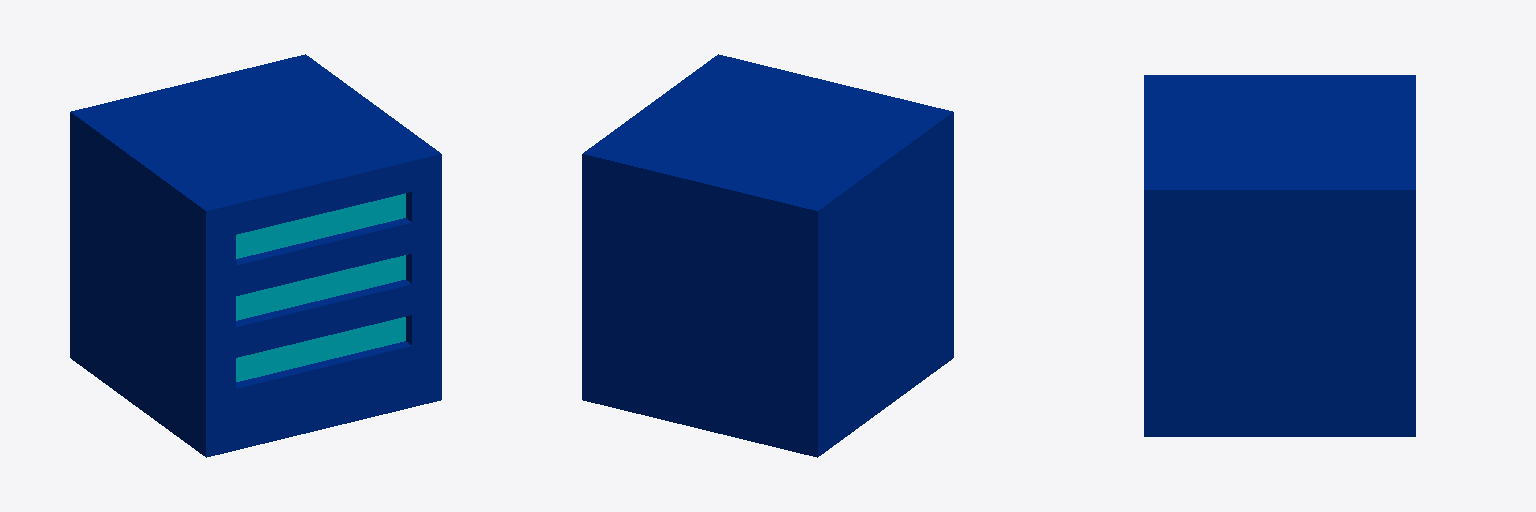
3 views of the same model, side by side, from view 1: azimuth 30°, elevation 25°; view 2: azimuth 150°, elevation 25°; view 3: azimuth 270°, elevation 25° (orthographic).
Parts seen in each view (by area): view 1: Cube_Material, Cube.001_材质; view 2: Cube_Material; view 3: Cube_Material.
Boxes of the visible parts, box(x1,y1,x2,y2) form: Cube_Material: box(70, 54, 441, 457); Cube.001_材质: box(236, 193, 405, 381); Cube_Material: box(582, 54, 953, 457); Cube_Material: box(1144, 75, 1415, 436).
Bounding box in the file's own units: 5.04 × 5.04 × 5.04.